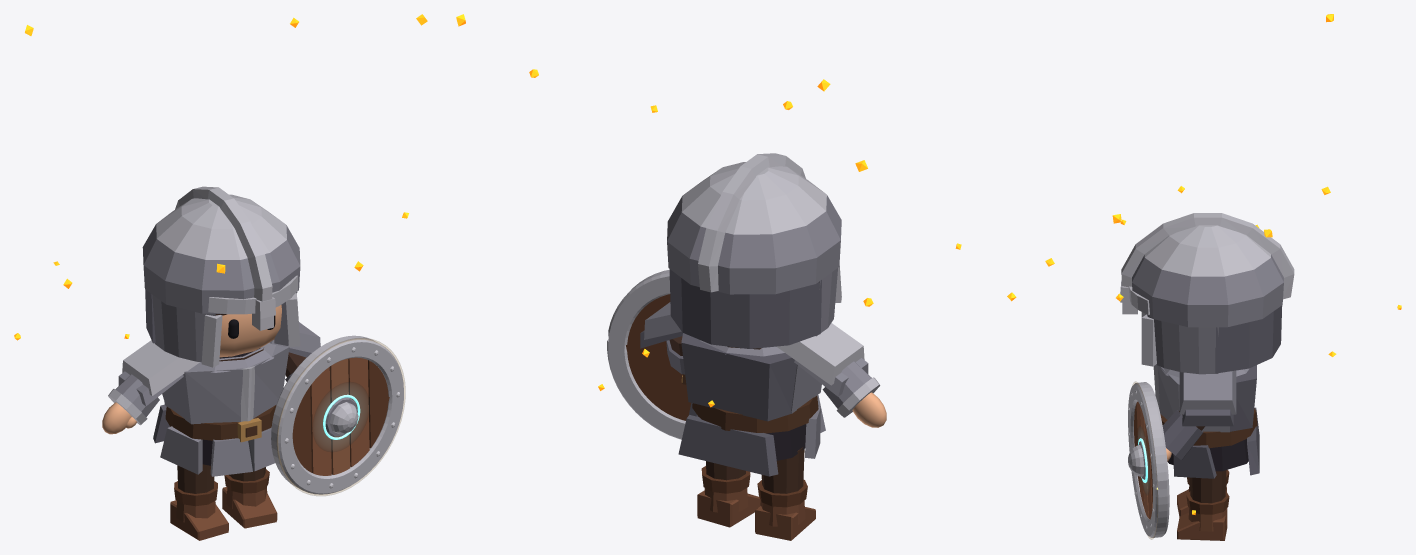
Rendered from guard.glb.
3 renders of one model, left to right at view 1: azimuth 30°, elevation 25°; view 2: azimuth 150°, elevation 25°; view 3: azimuth 270°, elevation 25°, orthographic. The views are drawn at different scales.
Parts seen in each view (by area): view 1: helmetGroup, shieldGroup, cuirassGroup, torsoGroup, rightArmGroup, rightLegGroup, guardianEffectsGroup, crestGroup, leftLegGroup, headGroup, leftArmGroup, emberGroup; view 2: helmetGroup, cuirassGroup, shieldGroup, torsoGroup, rightArmGroup, rightLegGroup, crestGroup, leftLegGroup, leftArmGroup, emberGroup; view 3: helmetGroup, shieldGroup, leftArmGroup, torsoGroup, crestGroup, leftLegGroup, cuirassGroup, emberGroup.
Part boxes in pixels (box(x1,y1,x2,y2)): helmetGroup: box(142, 194, 300, 367); shieldGroup: box(271, 335, 403, 494); cuirassGroup: box(162, 342, 289, 424); torsoGroup: box(153, 348, 276, 476); rightArmGroup: box(102, 340, 199, 434); rightLegGroup: box(170, 464, 228, 540); guardianEffectsGroup: box(277, 338, 405, 495); crestGroup: box(175, 186, 272, 301); leftLegGroup: box(222, 467, 277, 528); headGroup: box(215, 305, 281, 357); leftArmGroup: box(269, 322, 320, 381); emberGroup: box(14, 14, 427, 340); helmetGroup: box(667, 162, 841, 348); cuirassGroup: box(681, 333, 821, 421); shieldGroup: box(607, 269, 691, 439); torsoGroup: box(678, 346, 825, 476); rightArmGroup: box(777, 323, 886, 427); rightLegGroup: box(755, 447, 815, 540); crestGroup: box(698, 153, 805, 292); leftLegGroup: box(697, 461, 760, 527); leftArmGroup: box(640, 302, 684, 374); emberGroup: box(456, 14, 1016, 407); helmetGroup: box(1120, 225, 1283, 374); shieldGroup: box(1128, 382, 1169, 537); leftArmGroup: box(1162, 370, 1236, 461); torsoGroup: box(1160, 407, 1259, 478); crestGroup: box(1121, 213, 1294, 299); leftLegGroup: box(1177, 470, 1229, 540); cuirassGroup: box(1153, 365, 1256, 432); emberGroup: box(1045, 14, 1401, 514).
Size of the model in its own units: 1.48 by 1.47 by 1.06.
